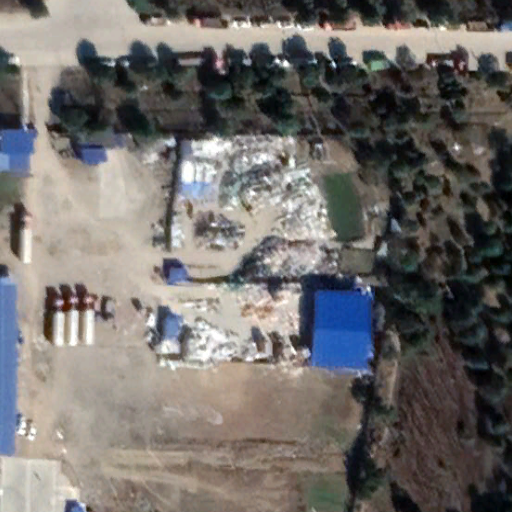msw: (171, 137, 338, 275)
